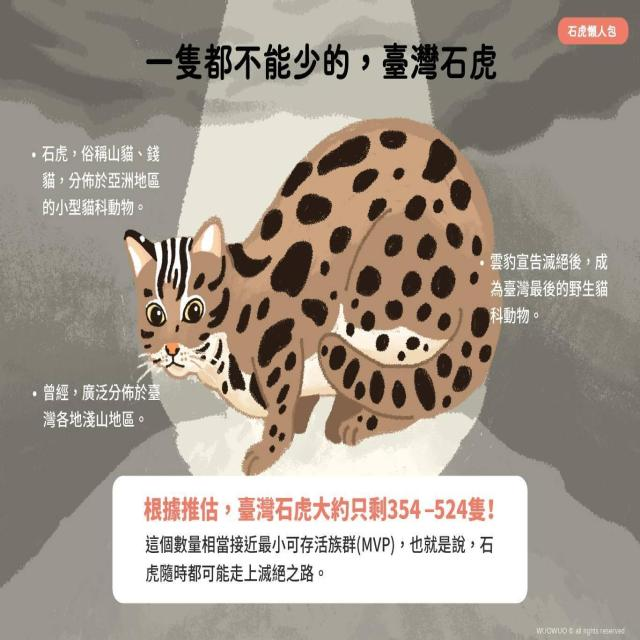leopard: (131, 229, 457, 446)
